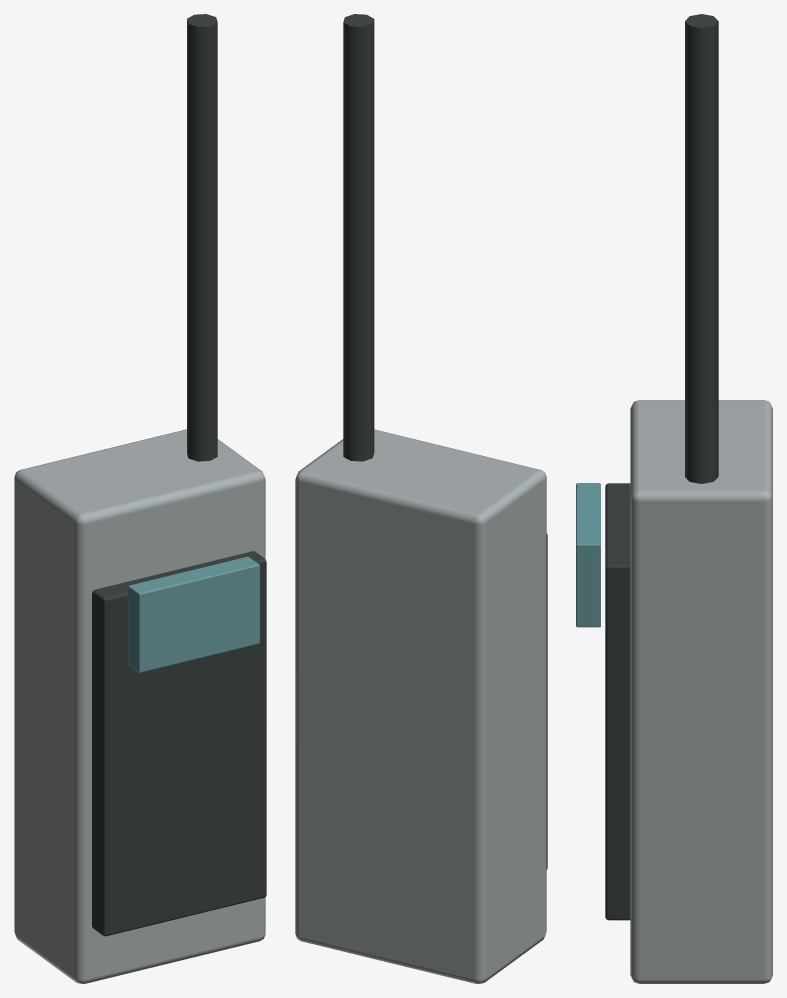
Rendered from scavengers-loot-library-walkie-talkie-563bb1a3__2493.glb.
3 renders of one model, left to right at view 1: azimuth 30°, elevation 25°; view 2: azimuth 150°, elevation 25°; view 3: azimuth 270°, elevation 25°, orthographic. The views are drawn at different scales.
Parts seen in each view (by area): view 1: walkie-talkie; view 2: walkie-talkie; view 3: walkie-talkie.
Boxes of the visible parts, box(x1,y1,x2,y2) form: walkie-talkie: box(14, 14, 266, 983); walkie-talkie: box(295, 14, 547, 983); walkie-talkie: box(576, 14, 772, 983).
Bounding box in the file's own units: 0.055 × 0.25 × 0.047.
